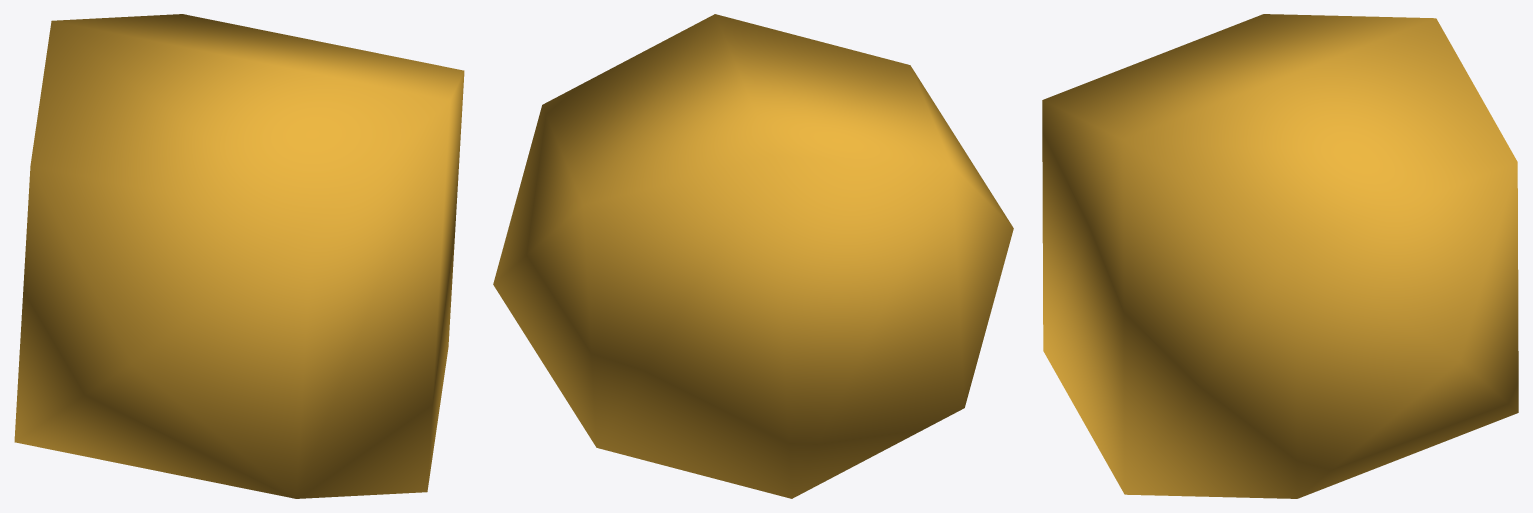
Rendered from SinglePotatoe.fbx.
3 renders of one model, left to right at view 1: azimuth 30°, elevation 25°; view 2: azimuth 150°, elevation 25°; view 3: azimuth 270°, elevation 25°, orthographic. The views are drawn at different scales.
Visible parts, largest first — view 1: Sphere.002; view 2: Sphere.002; view 3: Sphere.002.
Part boxes in pixels (<box>): Sphere.002: <box>14,14,464,498</box>; Sphere.002: <box>493,14,1013,498</box>; Sphere.002: <box>1042,14,1518,498</box>.
Size of the model in its own units: 42.52 by 34.99 by 39.82.
